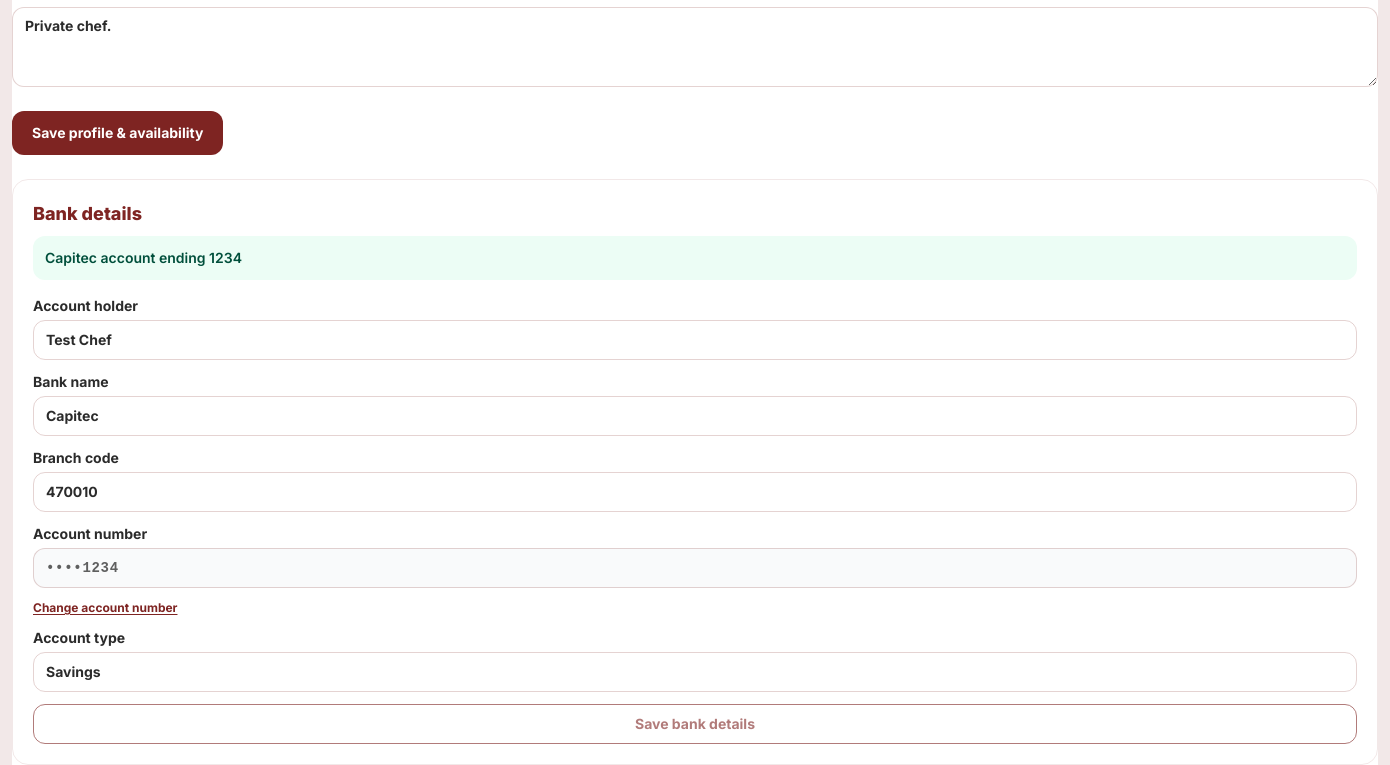
Test: Chef portal sessions › shows the masked last four digits after a profile reload and only reveals a blank replacement field
This screenshot has width=1390, height=765.
(page scrolled)
Expected: the text named "Account number" reads "••••1234", [33,548,1357,588]
Click the button "Change account number": click(105, 608) [33,600,178,616]
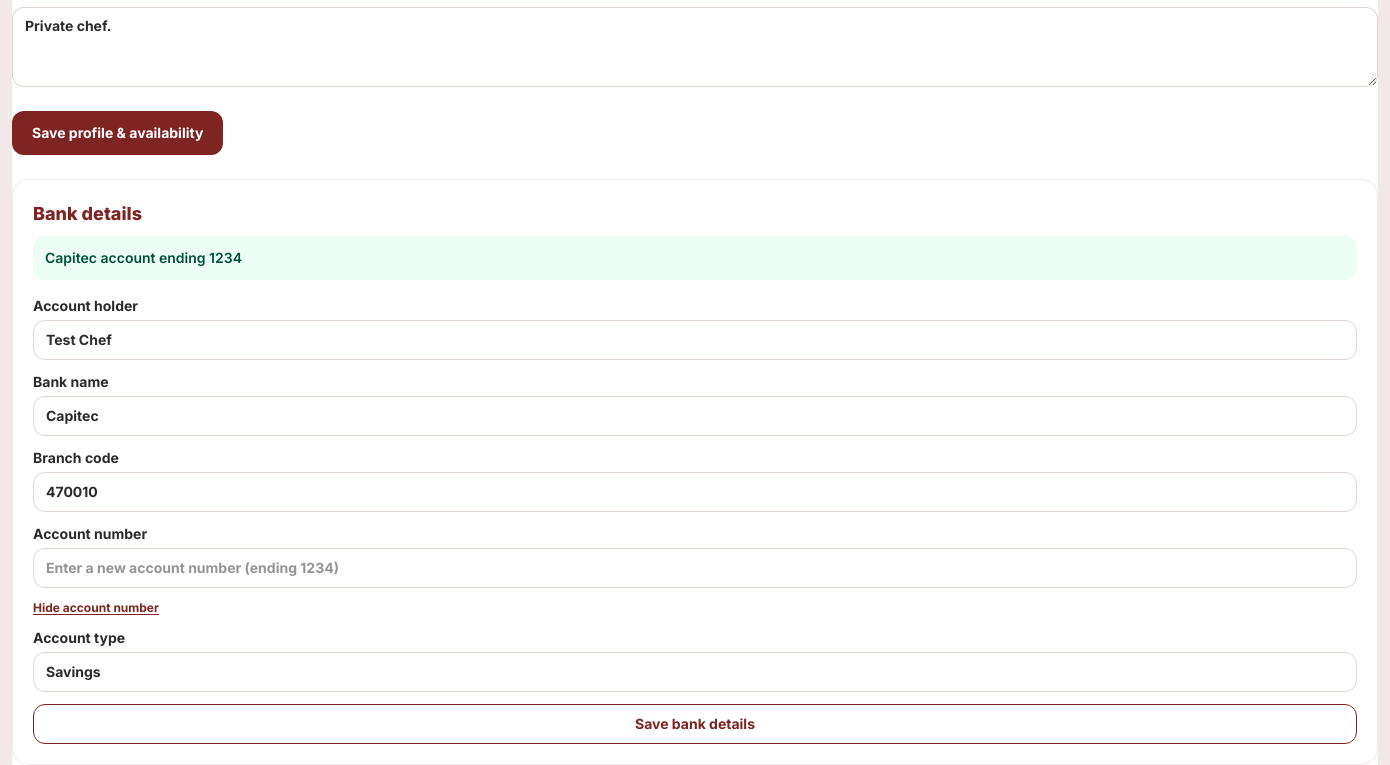
Expected: the password field labelled "Account number" is empty, [33,548,1357,588]
Expected: the button "Hide account number" is shown, [33,600,159,616]
